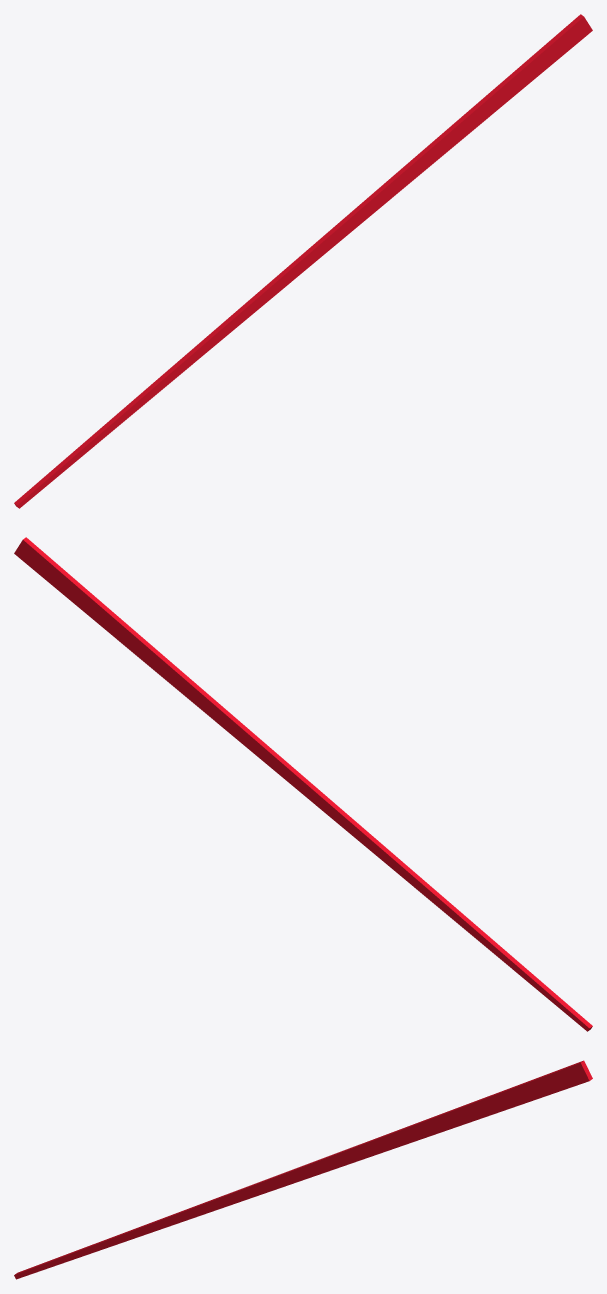
Rendered from aguja.FBX.
3 views of the same model, one above another, from view 1: azimuth 30°, elevation 25°; view 2: azimuth 150°, elevation 25°; view 3: azimuth 330°, elevation 25° (orthographic).
Parts seen in each view (by area): view 1: aguja; view 2: aguja; view 3: aguja.
Boxes of the visible parts, x1=… form: aguja: x1=14, y1=14, x2=592, y2=508; aguja: x1=14, y1=537, x2=592, y2=1031; aguja: x1=14, y1=1060, x2=592, y2=1279.
Bounding box in the file's own units: 3.88 × 2.28 × 0.0394.
